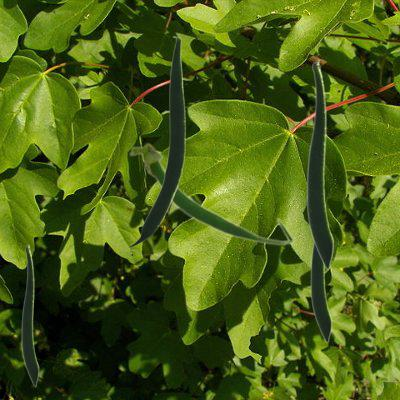french_bean: (128, 142, 294, 245), (127, 36, 184, 246), (306, 59, 333, 269), (21, 244, 38, 386), (310, 243, 331, 342)
